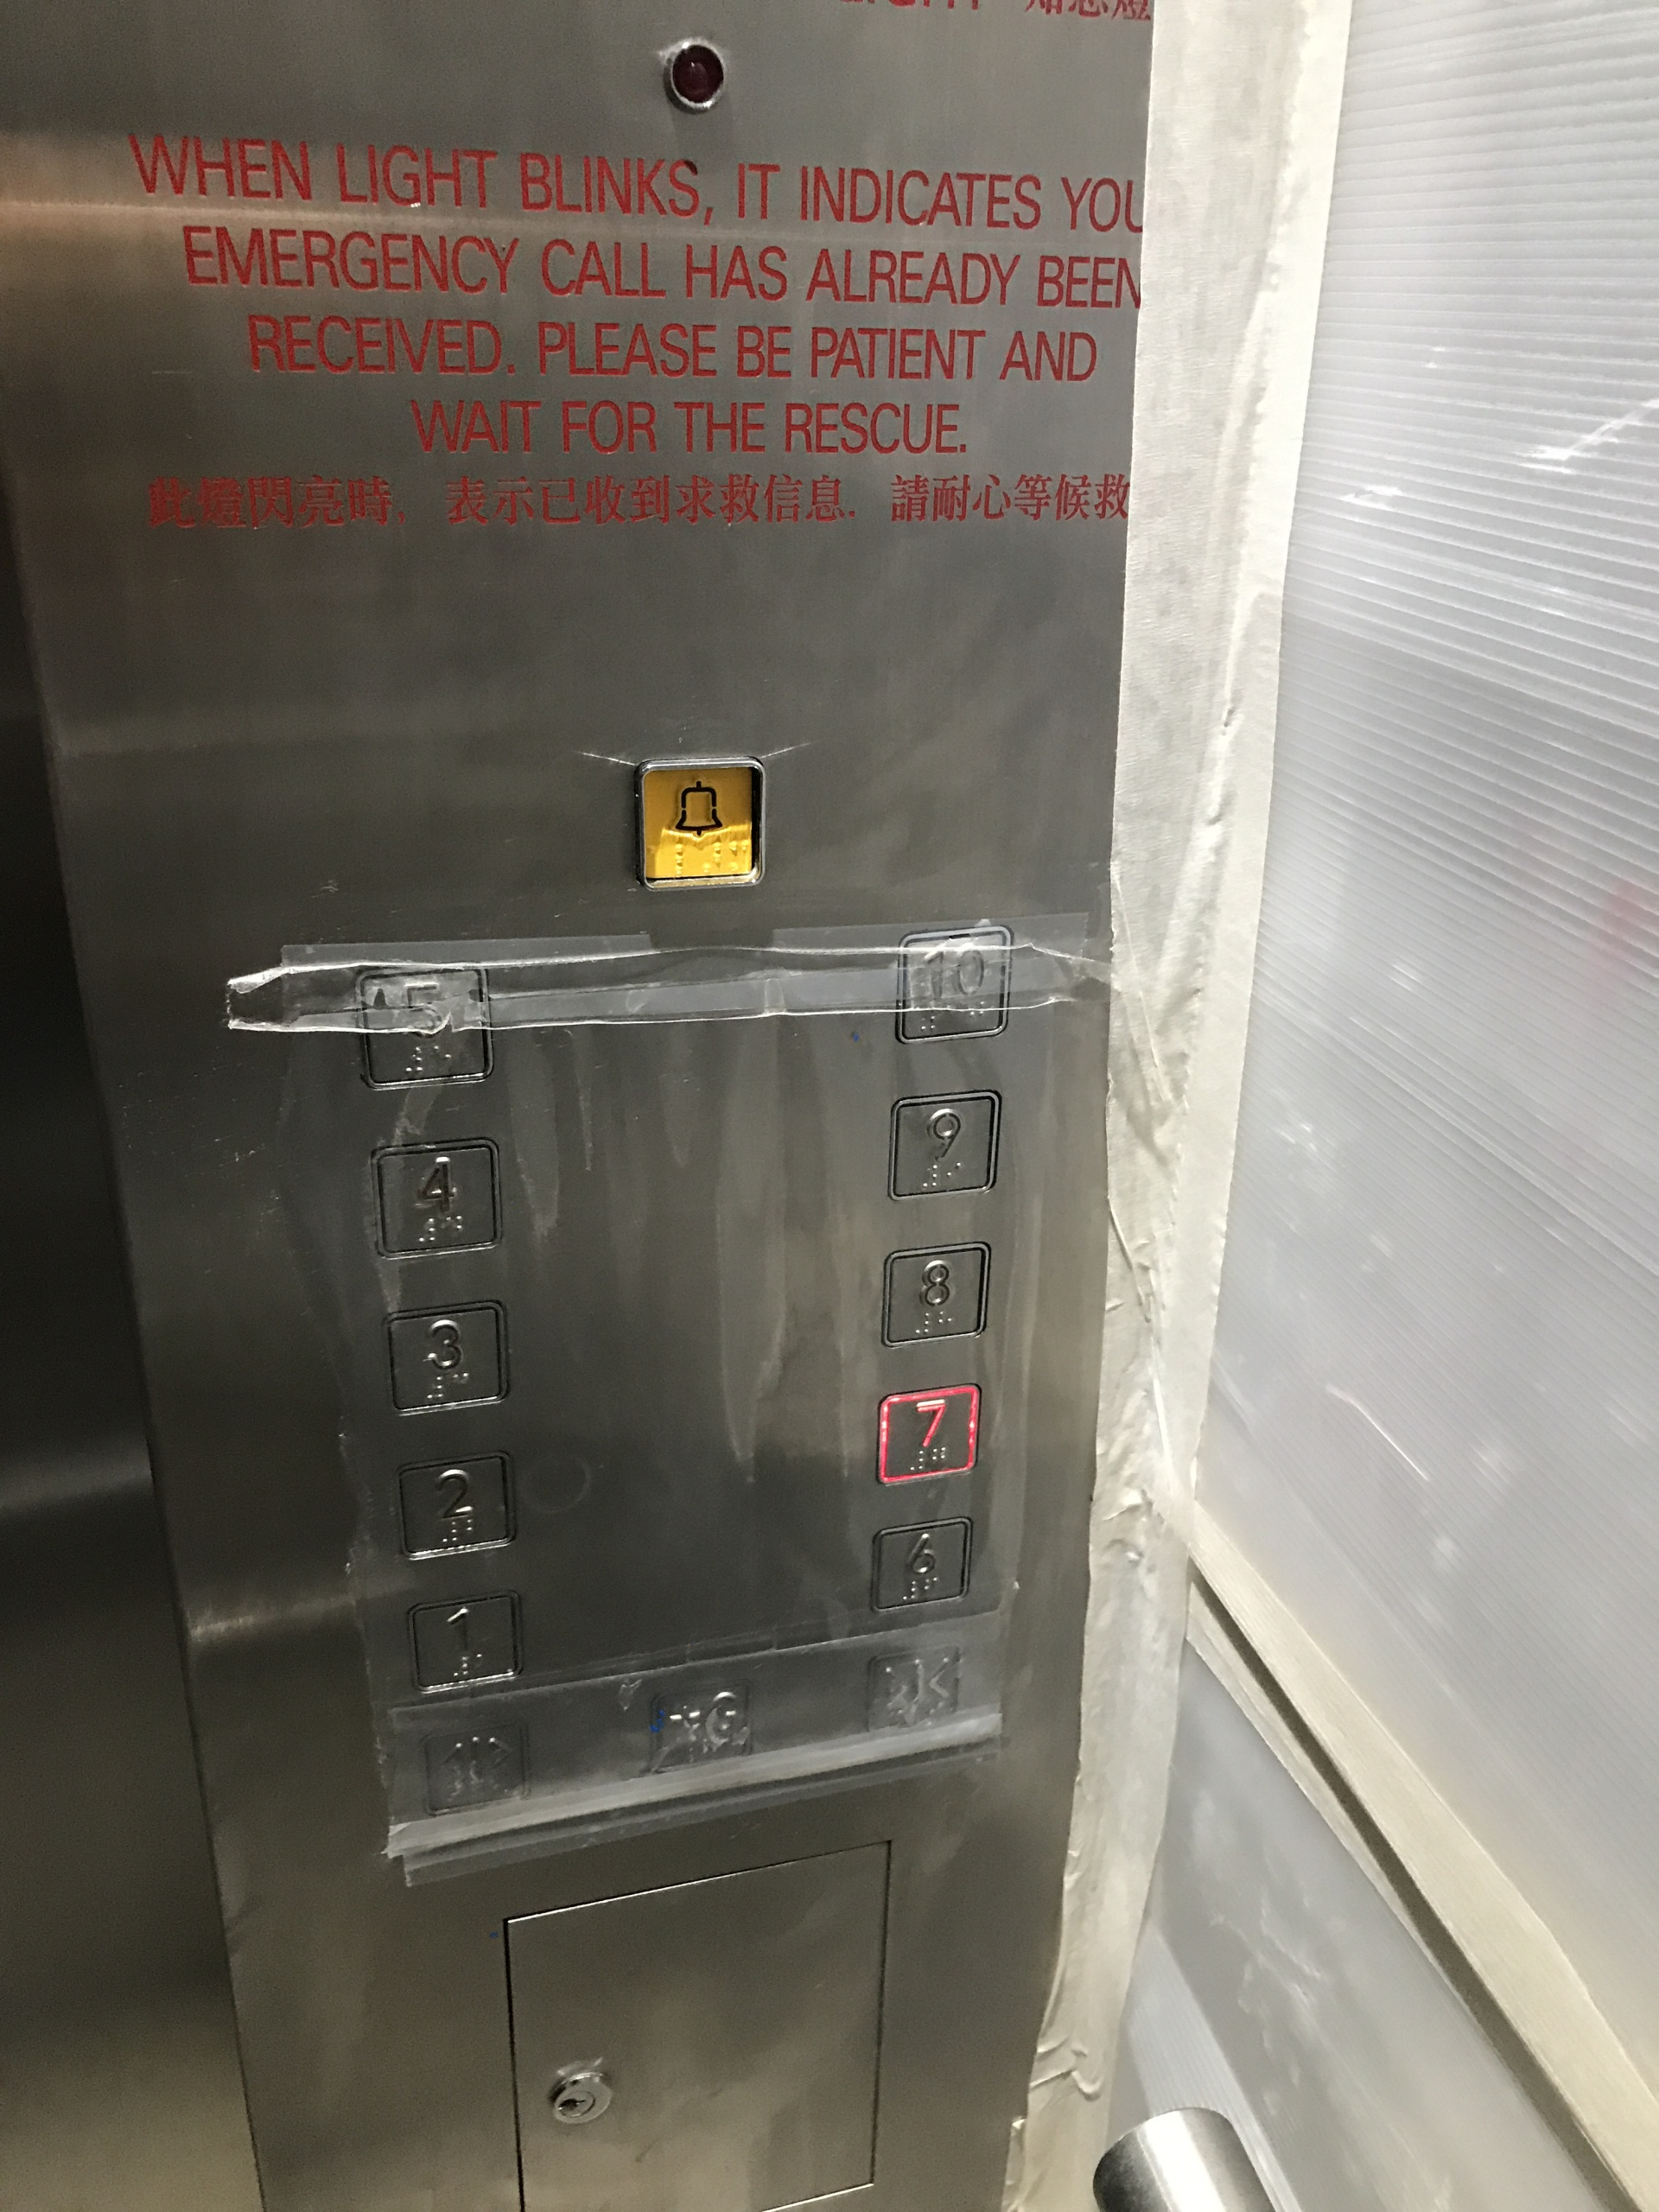1: (404, 1587, 526, 1696)
10: (890, 921, 1016, 1045)
2: (394, 1446, 519, 1562)
3: (378, 1298, 511, 1416)
4: (368, 1136, 505, 1263)
5: (349, 960, 500, 1094)
6: (868, 1512, 974, 1615)
7: (871, 1379, 986, 1487)
8: (878, 1238, 993, 1352)
9: (885, 1087, 1002, 1204)
alarm: (633, 751, 769, 894)
keyhole: (544, 2057, 619, 2132)
